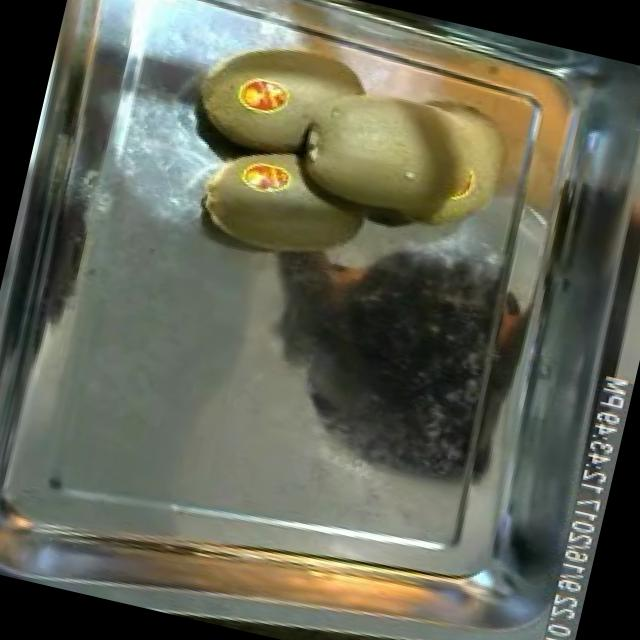Fruit: (269, 22, 530, 258), (180, 125, 386, 284)
